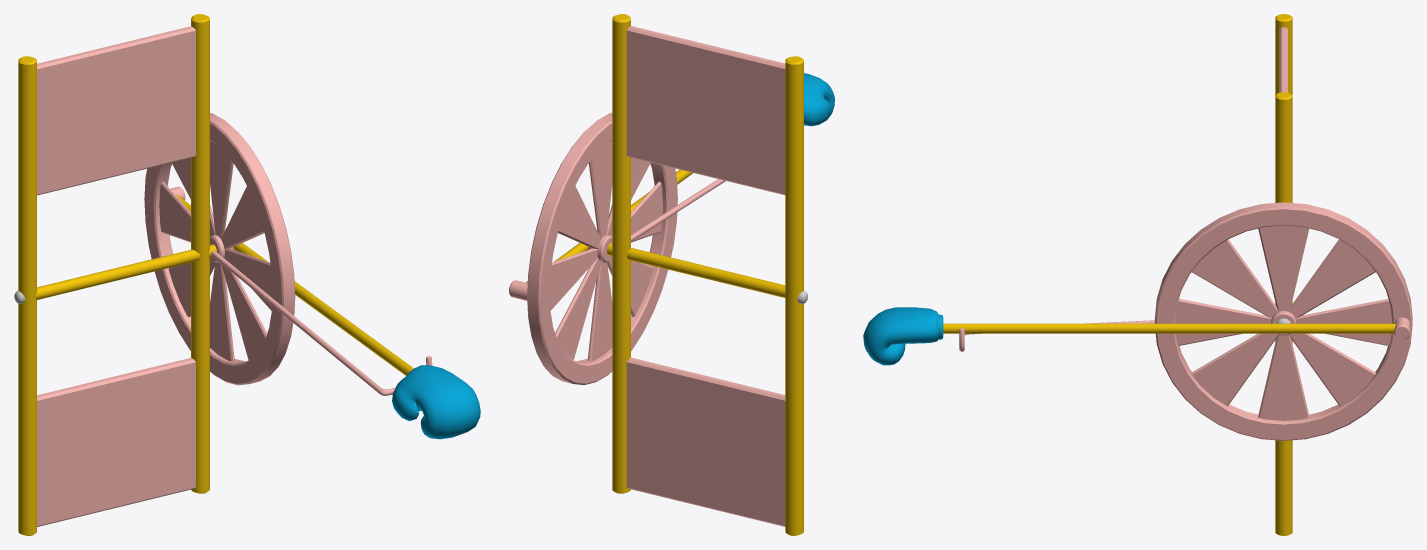
Rendered from PaddlePiston.fbx.
3 views of the same model, side by side, from view 1: azimuth 30°, elevation 25°; view 2: azimuth 150°, elevation 25°; view 3: azimuth 270°, elevation 25° (orthographic). The views are drawn at different scales.
Parts seen in each view (by area): view 1: Paddle, Wheel, Poker, Rest; view 2: Paddle, Wheel, Poker, Rest; view 3: Wheel, Poker, Paddle.
Boxes of the visible parts, left/top/right/bottom form: Paddle: left=14, top=14, right=217, bottom=535; Wheel: left=144, top=113, right=295, bottom=385; Poker: left=176, top=195, right=480, bottom=439; Rest: left=211, top=250, right=432, bottom=395; Paddle: left=607, top=14, right=807, bottom=535; Wheel: left=509, top=113, right=677, bottom=385; Poker: left=526, top=73, right=834, bottom=282; Rest: left=631, top=179, right=725, bottom=241; Wheel: left=1154, top=202, right=1412, bottom=440; Poker: left=863, top=307, right=1395, bottom=365; Paddle: left=1275, top=14, right=1292, bottom=535.
Size of the model in its own units: 92.06 by 170 by 193.
